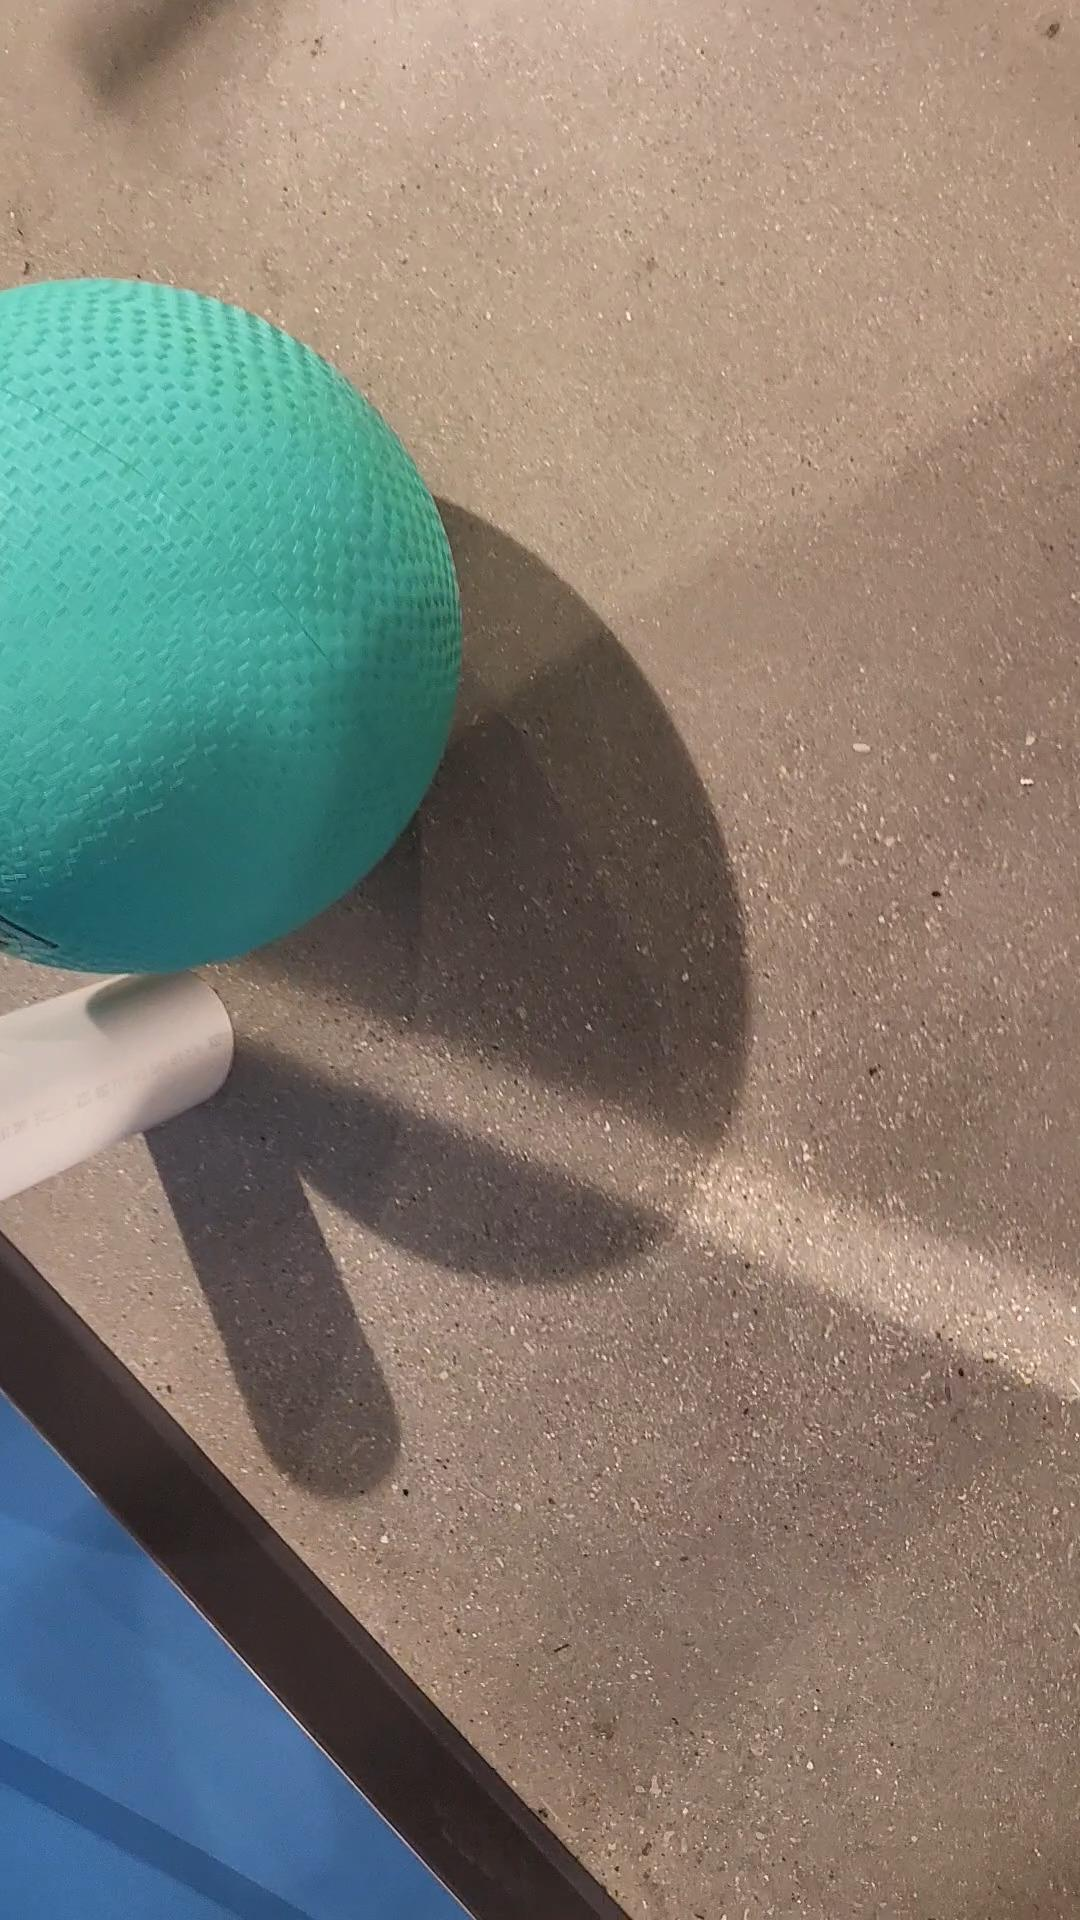algae: (0, 280, 460, 972)
coral: (0, 968, 232, 1197)
